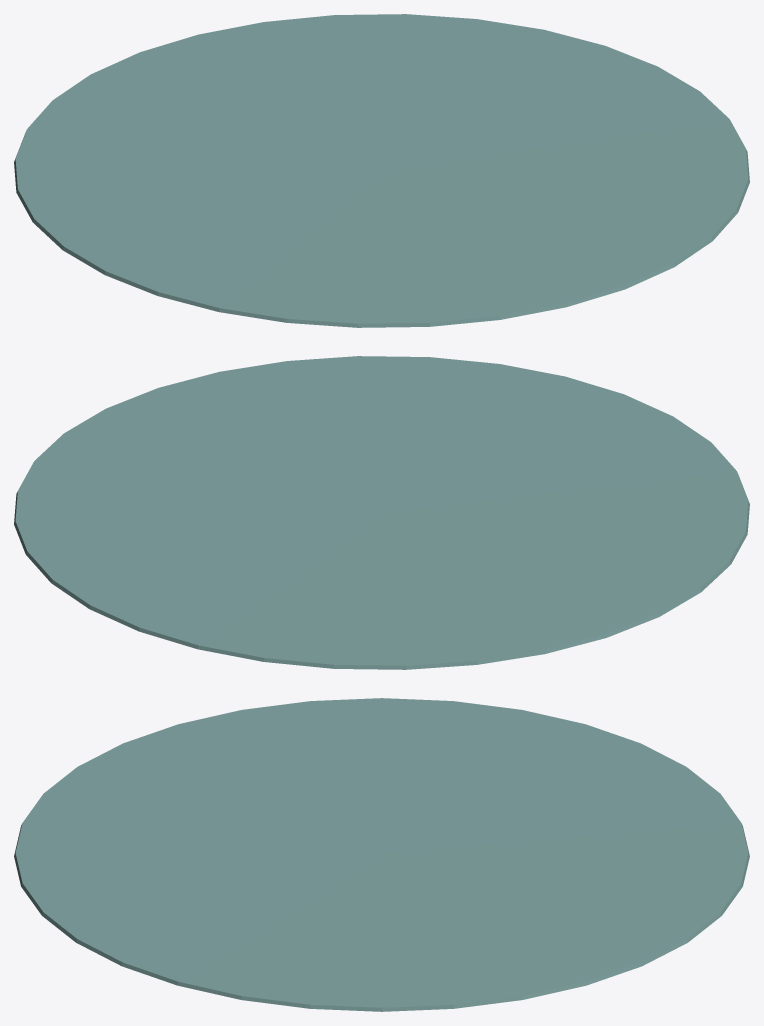
The model's file is tapis .fbx.
3 renders of one model, top to bottom at view 1: azimuth 30°, elevation 25°; view 2: azimuth 150°, elevation 25°; view 3: azimuth 270°, elevation 25°, orthographic.
Visible parts, largest first — view 1: tapi; view 2: tapi; view 3: tapi.
Boxes of the visible parts, box(x1,y1,x2,y2) form: tapi: box(14, 14, 749, 327); tapi: box(14, 356, 749, 669); tapi: box(14, 698, 749, 1011).
Bounding box in the file's own units: 200 × 1.01 × 200.
